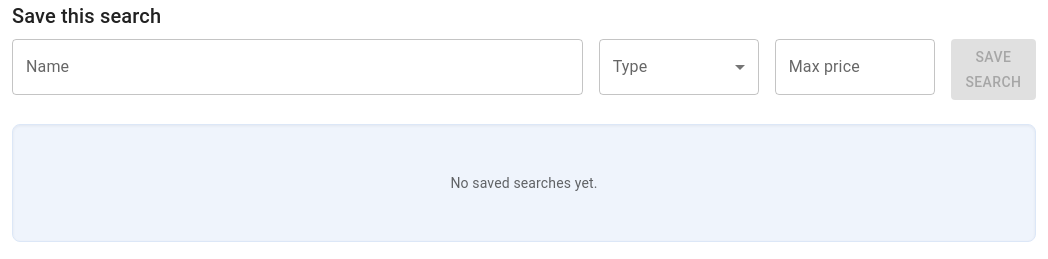
Test: SavedSearches › J7: saving a search adds it to the list
Type "Profitable SaaS" into the field labelled "Name" at coordinates (297, 67), box [12,39,583,95]
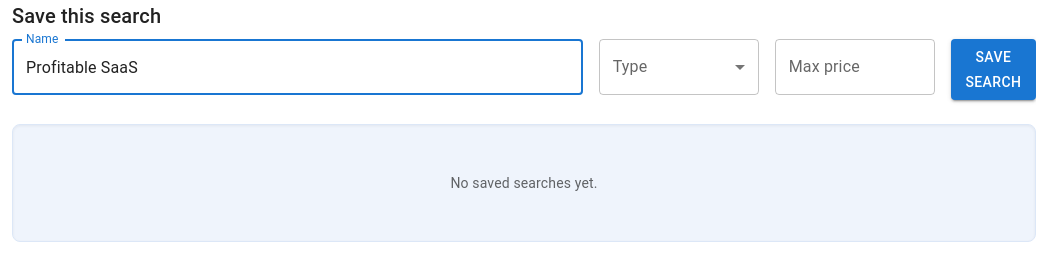
Click the button "Save search" at coordinates (993, 70), box [951,39,1036,100]
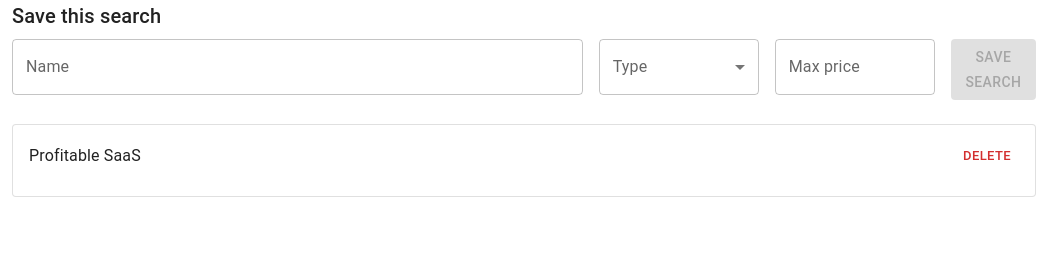
Check: the text "Profitable SaaS" is shown, box [29,144,141,168]
